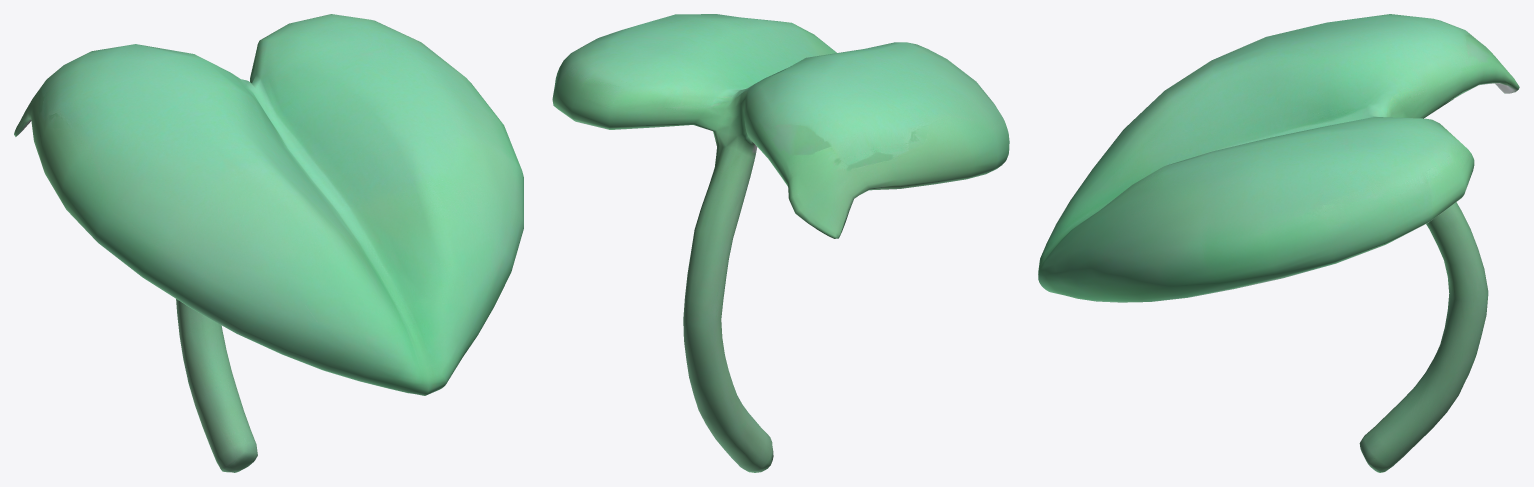
The model's file is heart_halfmoon_2672_0_1.glb.
3 views of the same model, side by side, from view 1: azimuth 30°, elevation 25°; view 2: azimuth 150°, elevation 25°; view 3: azimuth 270°, elevation 25° (orthographic). The views are drawn at different scales.
Bounding box in the file's own units: 1.87 × 1.85 × 2.
1 material, 1 textured.
